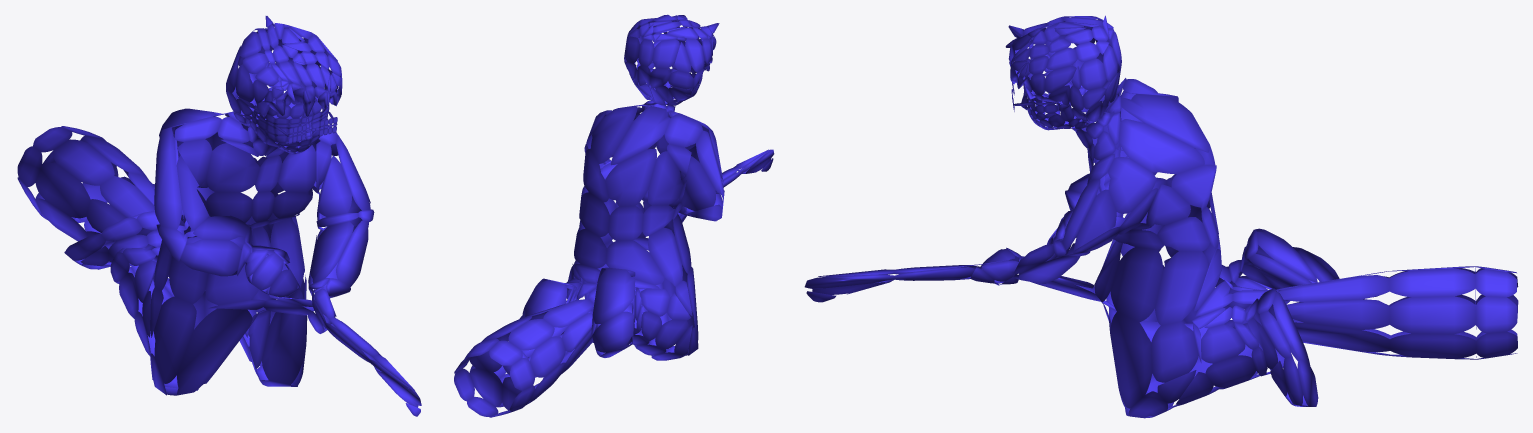
The picture shows the model from 3 angles, left to right: view 1: azimuth 30°, elevation 25°; view 2: azimuth 150°, elevation 25°; view 3: azimuth 270°, elevation 25°; orthographic projection. The views are drawn at different scales.
Parts seen in each view (by area): view 1: T1L3M009_9; view 2: T1L3M009_9; view 3: T1L3M009_9.
Boxes of the visible parts, box(x1,y1,x2,y2) form: T1L3M009_9: box(17, 16, 421, 416); T1L3M009_9: box(454, 14, 774, 417); T1L3M009_9: box(804, 15, 1518, 418).
Size of the model in its own units: 0.502 by 1 by 1.68.
Materials: 1 (1 with a texture image).
